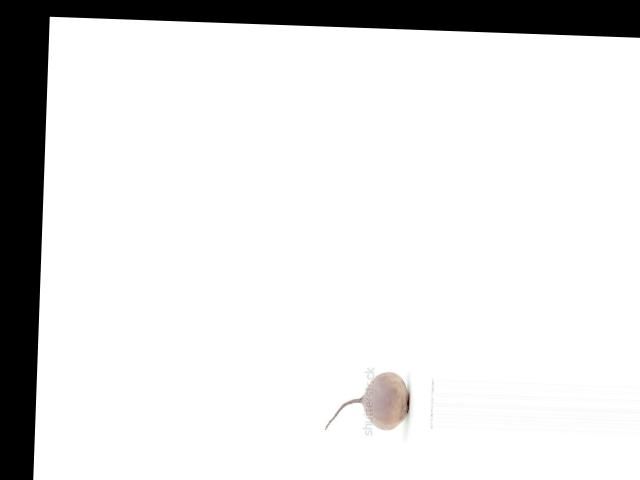beet: (324, 368, 410, 432)
